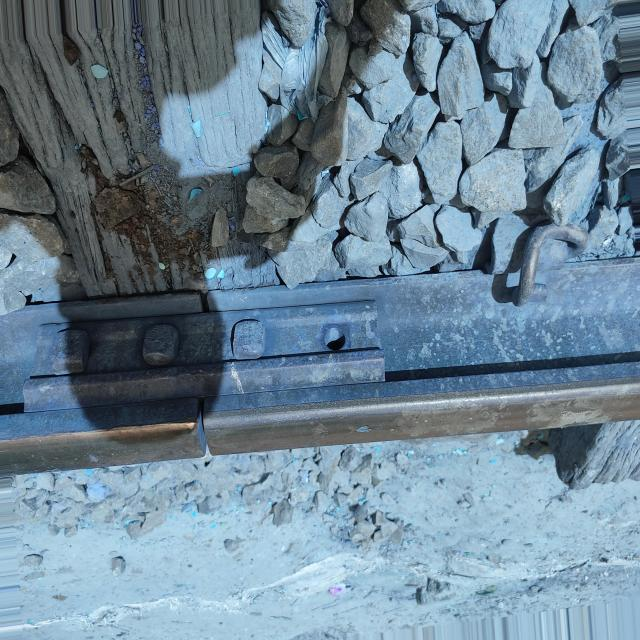Defective Joint: (22, 298, 389, 409)
Good Fasteners: (488, 214, 588, 307)
